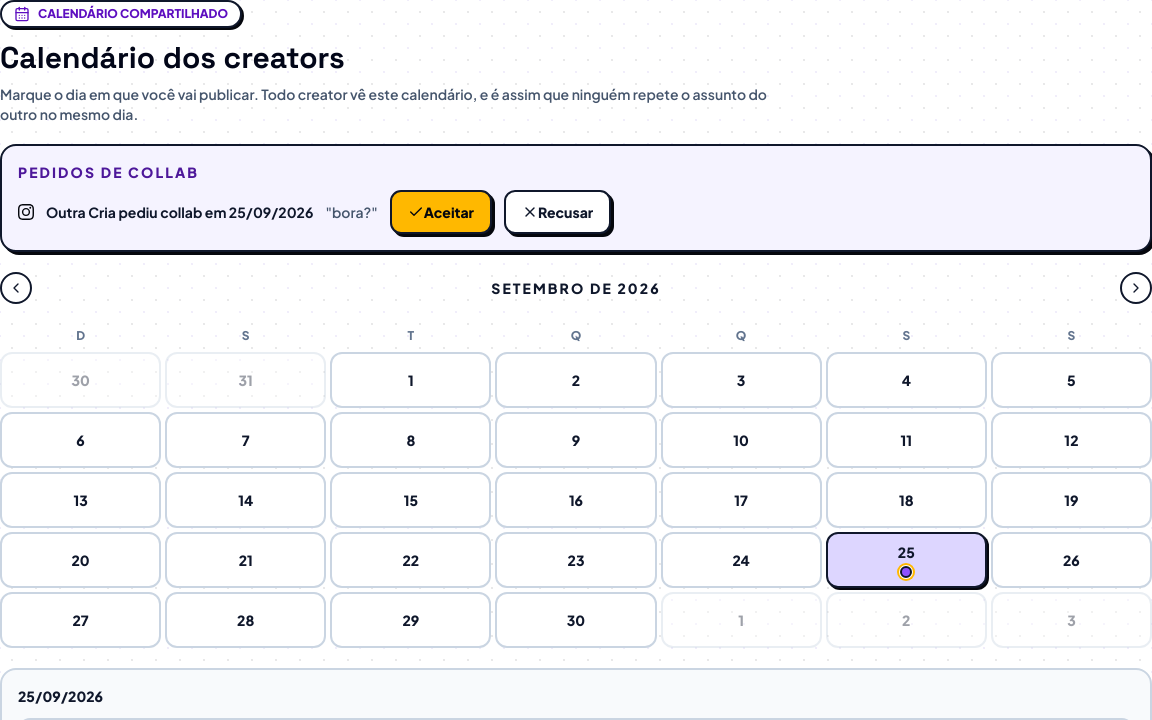
Test: CreatorCalendario: collab › a faixa mostra o pedido recebido, e aceitar manda aceita true
This screenshot has width=1152, height=720.
Expected: the element with test id "creator-collabs-pendentes" shows "Outra Cria", 46,203 -> 313,221
Expected: the element with test id "creator-collabs-pendentes" shows "bora?", 325,203 -> 378,221
Click the button "Aceitar": (441, 212) 390,190 -> 492,234
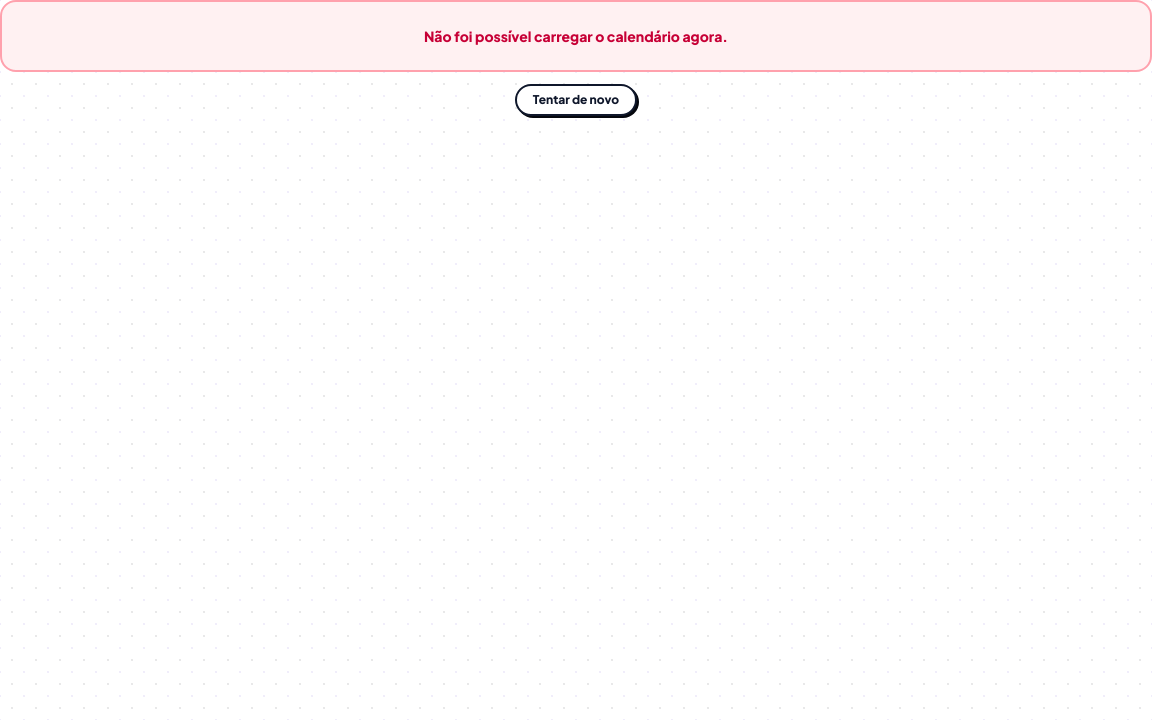
Expected: the element with test id "creator-collabs-pendentes" is gone
